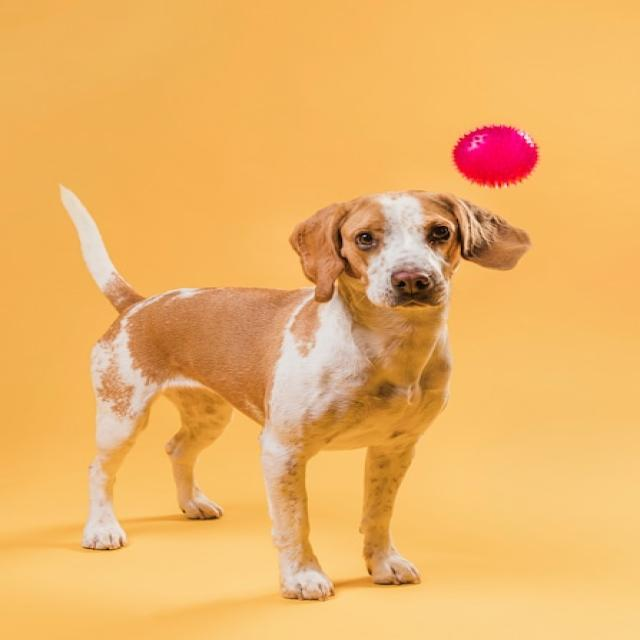Dog: (54, 183, 532, 603)
